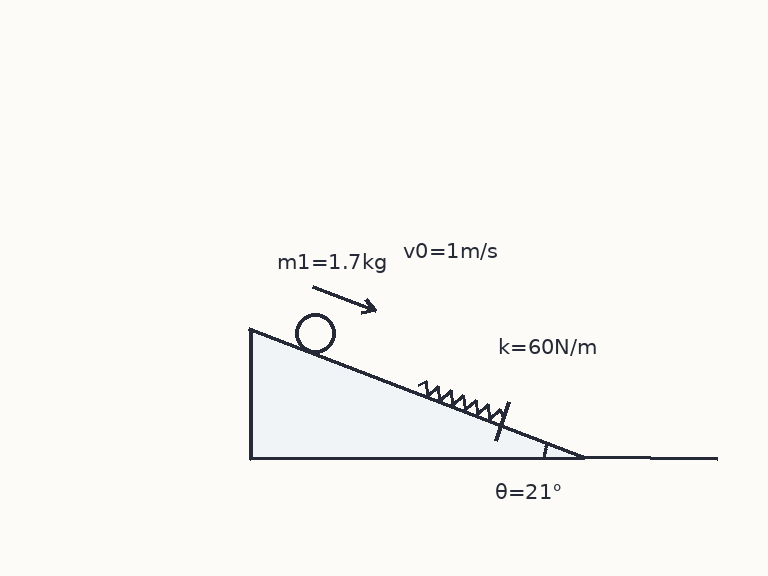ball: (293, 311, 337, 355)
ramp: (249, 328, 586, 460)
spring: (415, 378, 506, 421)
